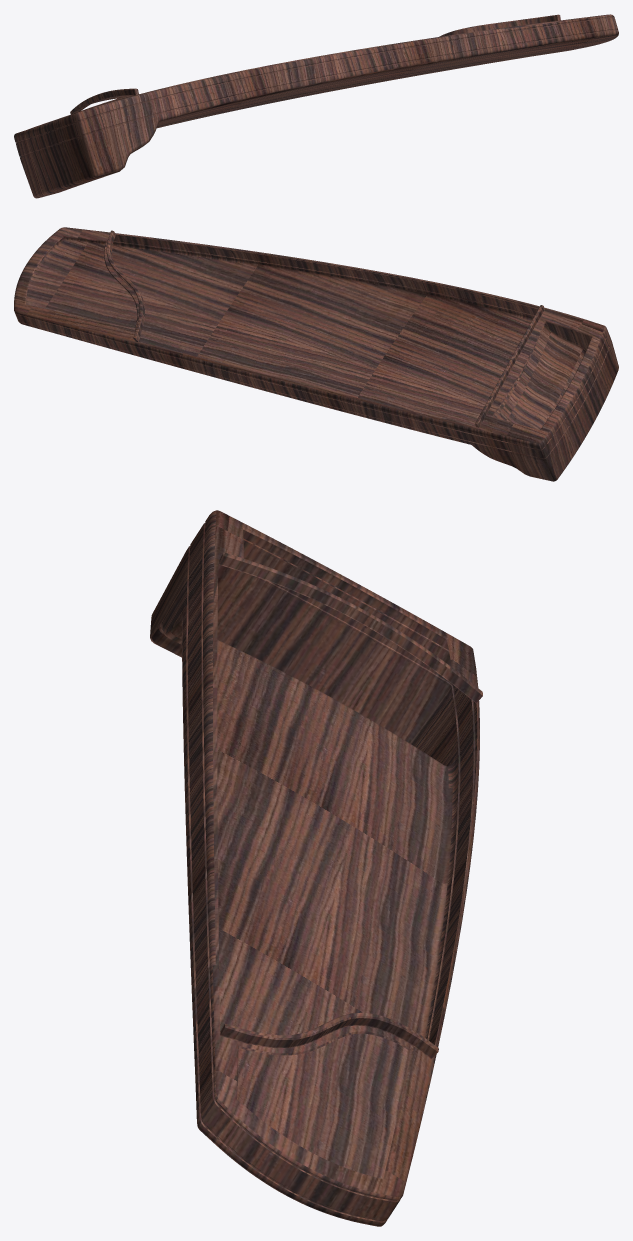
File: 边板及侧板.FBX
3 renders of one model, top to bottom at view 1: azimuth 30°, elevation 25°; view 2: azimuth 150°, elevation 25°; view 3: azimuth 270°, elevation 25°, orthographic. The views are drawn at different scales.
Parts seen in each view (by area): view 1: 边板及底板; view 2: 边板及底板; view 3: 边板及底板.
Boxes of the visible parts, x1,y1,x2,y2 form: 边板及底板: [14, 14, 618, 198]; 边板及底板: [14, 227, 618, 481]; 边板及底板: [150, 510, 482, 1226].
Bounding box in the file's own units: 1312 × 288 × 340.
Materials: 1 (1 with a texture image).
